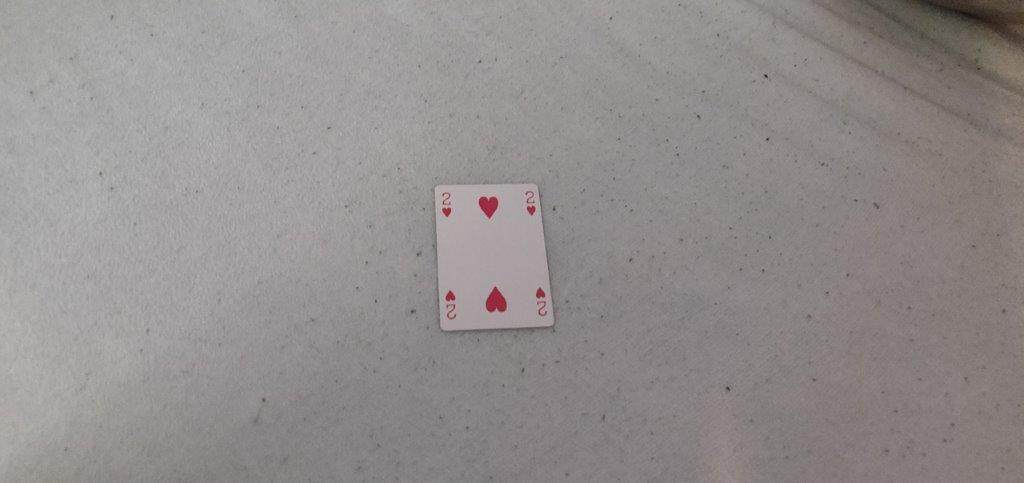2H: (437, 188, 455, 219), (522, 187, 539, 219)
